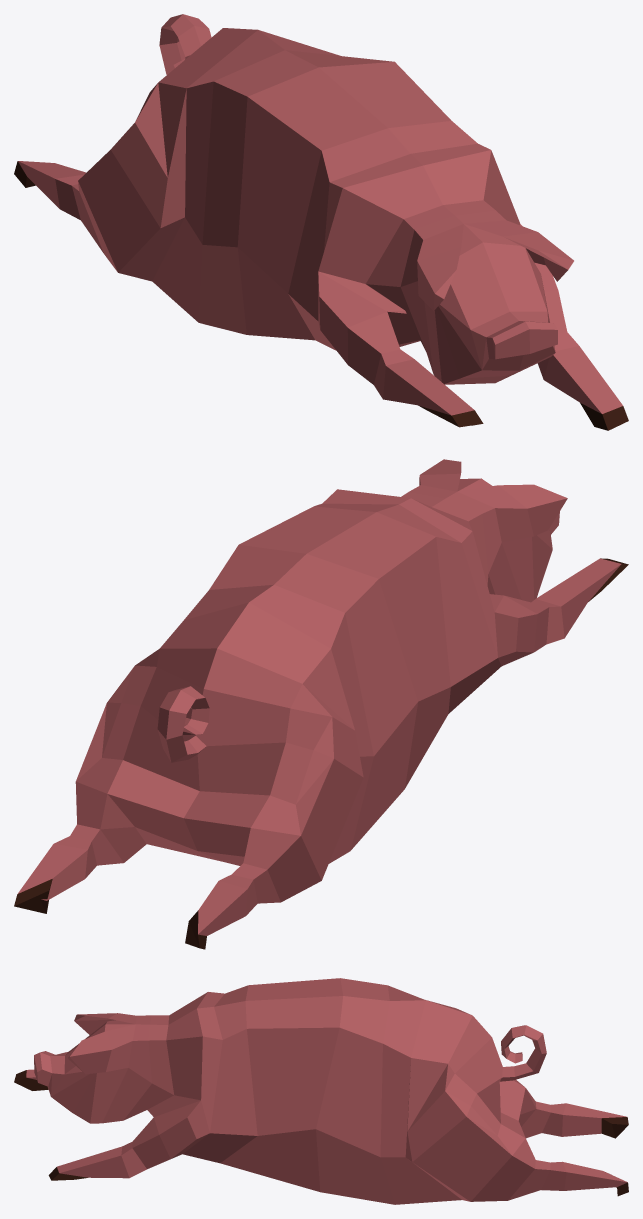
The model's file is Pig_000013.obj.
3 views of the same model, one above another, from view 1: azimuth 30°, elevation 25°; view 2: azimuth 150°, elevation 25°; view 3: azimuth 270°, elevation 25° (orthographic). The views are drawn at different scales.
Parts seen in each view (by area): view 1: Pig_Cylinder; view 2: Pig_Cylinder; view 3: Pig_Cylinder.
Part boxes in pixels (x1,y1,x2,y2): Pig_Cylinder: [14, 14, 628, 430]; Pig_Cylinder: [14, 459, 628, 949]; Pig_Cylinder: [14, 978, 628, 1204].
Size of the model in its own units: 3.31 by 3.59 by 10.83.
